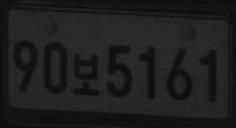0: (43, 40, 68, 94)
1: (136, 46, 163, 99), (197, 49, 223, 103)
5: (105, 45, 132, 97)
6: (166, 48, 194, 100)
9: (12, 39, 38, 91)
보: (72, 52, 100, 97)
